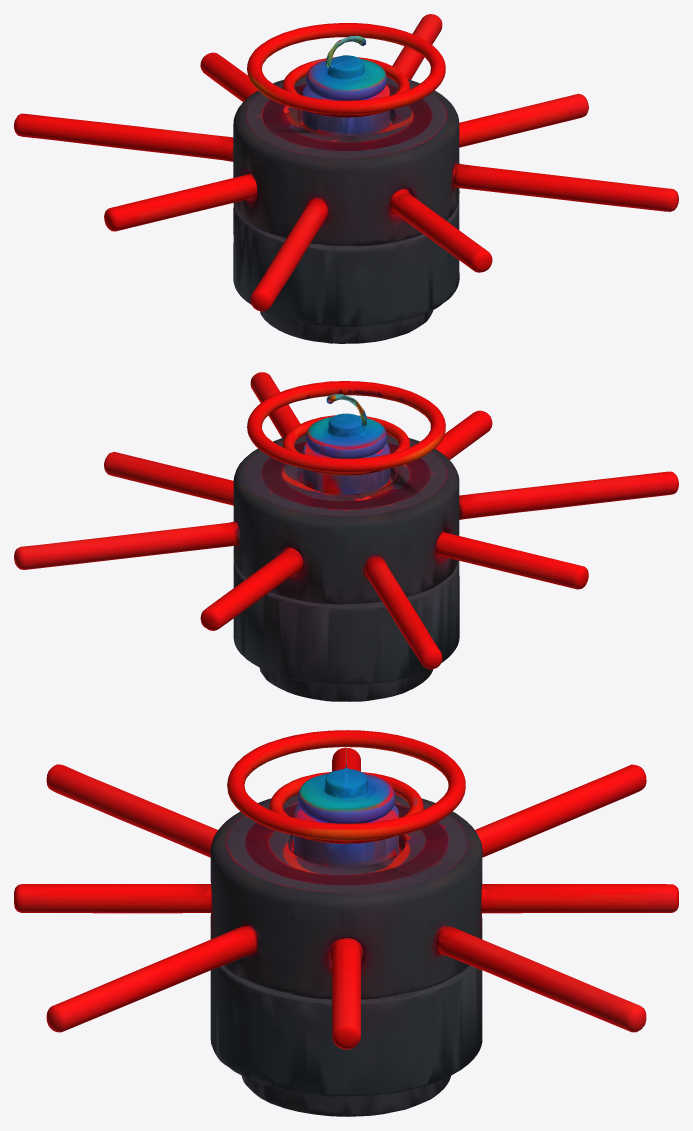
The model's file is obstacle_spinninglaser.glb.
The picture shows the model from 3 angles, top to bottom: view 1: azimuth 30°, elevation 25°; view 2: azimuth 150°, elevation 25°; view 3: azimuth 270°, elevation 25°; orthographic projection. The views are drawn at different scales.
Parts seen in each view (by area): view 1: model; view 2: model; view 3: model.
Boxes of the visible parts, <box> form: model: <box>14,14,678,343</box>; model: <box>14,372,678,701</box>; model: <box>14,730,678,1116</box>.
Size of the model in its own units: 1.9 by 1.03 by 1.9.
Materials: 1 (1 with a texture image).
